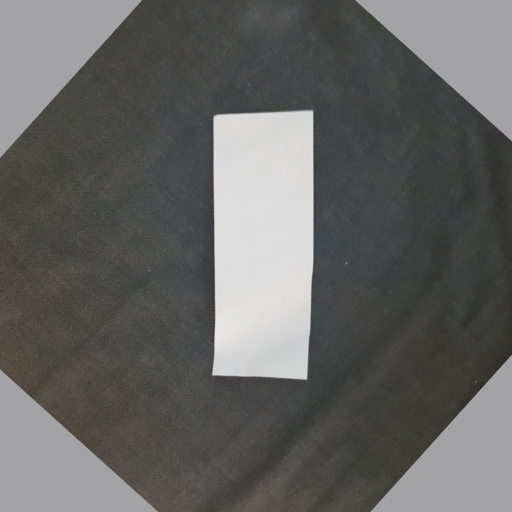Paper_2: (199, 106, 346, 410)
